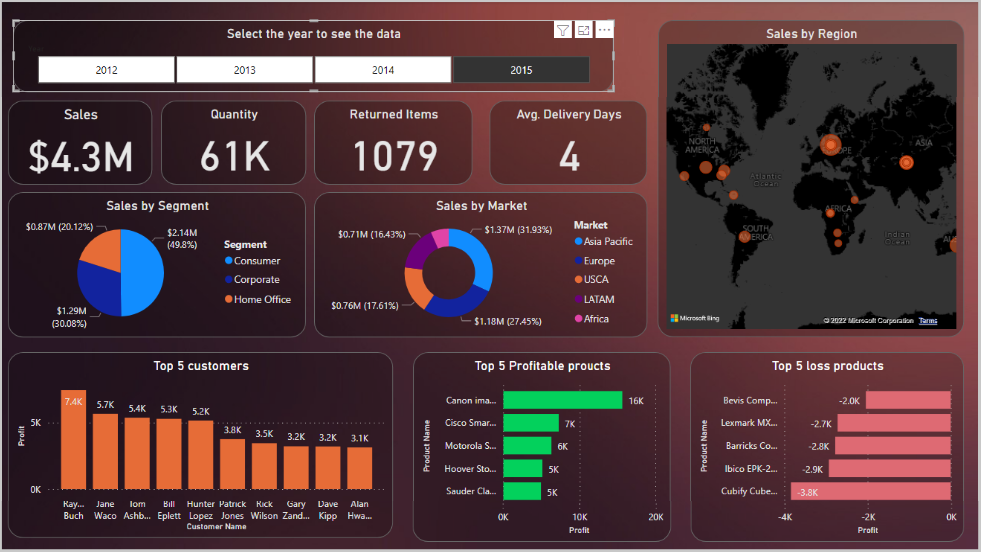

This screenshot's page, from the dashboard's own definition file:
{"tool":"powerbi","page":{"name":"Page 1","canvas":[1280,720],"ordinal":0},"visuals":[{"type":"card","title":"Sales","fields":{"Values":["Sum(Orders.Sales)"]},"box":[10,129,189,110],"z":0},{"type":"card","title":"Quantity","fields":{"Values":["Sum(Orders.Quantity)"]},"box":[210,129,190,110],"z":1000},{"type":"card","title":"Returned Items","fields":{"Values":["CountNonNull(Returns.Returned Orders)"]},"box":[410,129,207,110],"z":2000},{"type":"map","fields":{"Category":["Orders.Region"],"Size":["Sum(Orders.Sales)"]},"box":[860.8,23.3,400.7,415.3],"z":3000},{"type":"card","title":"Avg. Delivery Days","fields":{"Values":["Avg(Orders.Delivery days)"]},"box":[640,129,207,110],"z":4000},{"type":"slicer","title":"Select the year to see the data","fields":{"Values":["Orders.Year"]},"box":[9.6,23.3,837.8,93.4],"z":5000},{"type":"barChart","title":"Top 5 Profitable proucts","fields":{"Y":["Sum(Orders.Profit)"],"Category":["Orders.Product Name"]},"box":[540,458,338,249],"z":6000},{"type":"barChart","title":"Top 5 loss products","fields":{"Y":["Sum(Orders.Profit)"],"Category":["Orders.Product Name"]},"box":[904,458,358,249],"z":7000},{"type":"pieChart","fields":{"Category":["Orders.Segment"],"Y":["Sum(Orders.Sales)"]},"box":[9.7,249,390,189.7],"z":8000},{"type":"donutChart","fields":{"Category":["Orders.Market"],"Y":["Sum(Orders.Sales)"]},"box":[410.5,249,436.7,189.7],"z":9000},{"type":"columnChart","title":"Top 5 customers","fields":{"Y":["Sum(Orders.Profit)"],"Category":["Orders.Customer Name"]},"box":[10,458,504,244],"z":10000}]}

Visuals, with their boxes in screenshot pixels (x1, y1, x2, y2), scaled from the page's 1280x720 canvas onto the 981x552 screenshot:
"Sales" card: [x1=8, y1=99, x2=153, y2=183]
"Quantity" card: [x1=161, y1=99, x2=307, y2=183]
"Returned Items" card: [x1=314, y1=99, x2=473, y2=183]
map - Orders.Region x Sum(Orders.Sales): [x1=660, y1=18, x2=967, y2=336]
"Avg. Delivery Days" card: [x1=490, y1=99, x2=649, y2=183]
"Select the year to see the data" slicer: [x1=7, y1=18, x2=649, y2=89]
"Top 5 Profitable proucts" barChart: [x1=414, y1=351, x2=673, y2=542]
"Top 5 loss products" barChart: [x1=693, y1=351, x2=967, y2=542]
pieChart - Orders.Segment x Sum(Orders.Sales): [x1=7, y1=191, x2=306, y2=336]
donutChart - Orders.Market x Sum(Orders.Sales): [x1=315, y1=191, x2=649, y2=336]
"Top 5 customers" columnChart: [x1=8, y1=351, x2=394, y2=538]
